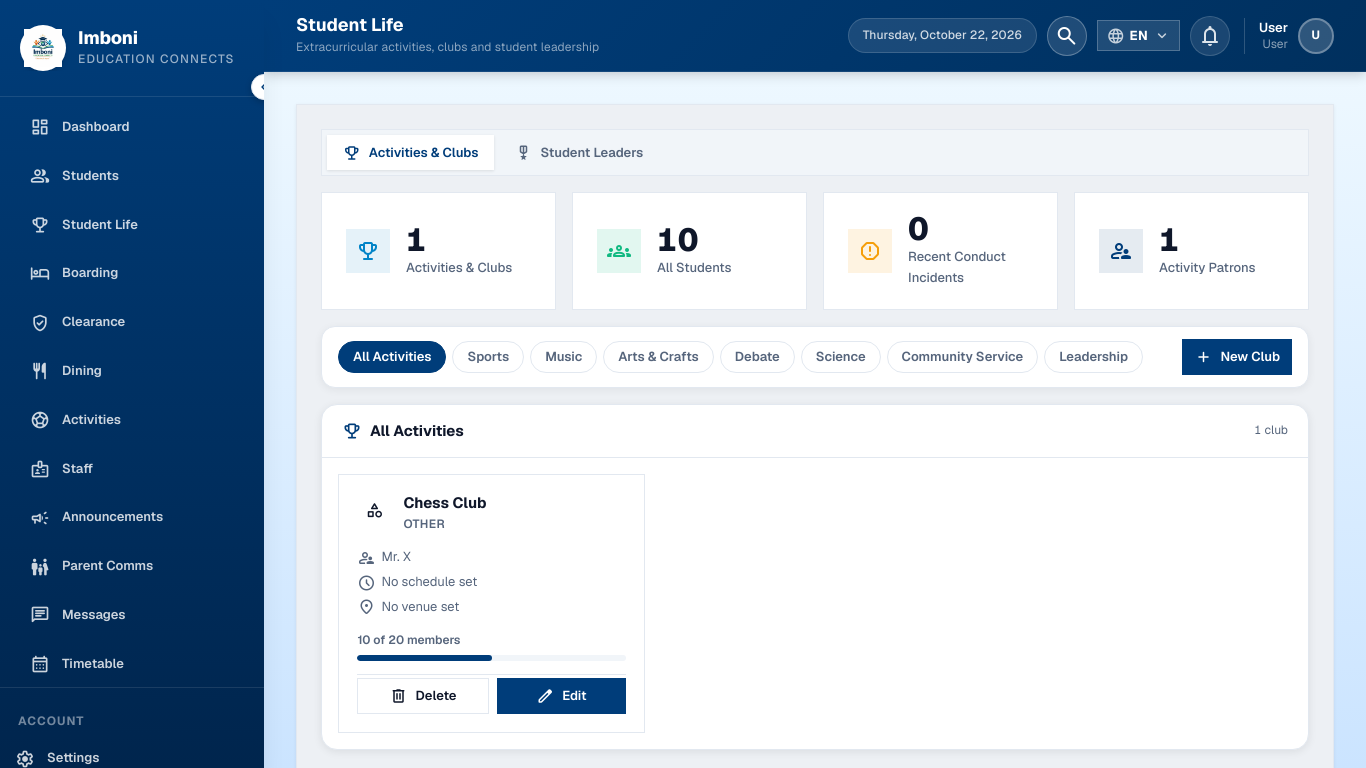
Test case: DisStudentLife › puts every list in a titled, counted section
The width and height of the screenshot is (1366, 768).
Expected: the heading "Chess Club" is shown, [403,493,486,512]
Expected: the heading "All Activities" is shown, [342,421,464,441]
Click the tab "Student Leaders" at (579, 153), box [498,135,659,170]
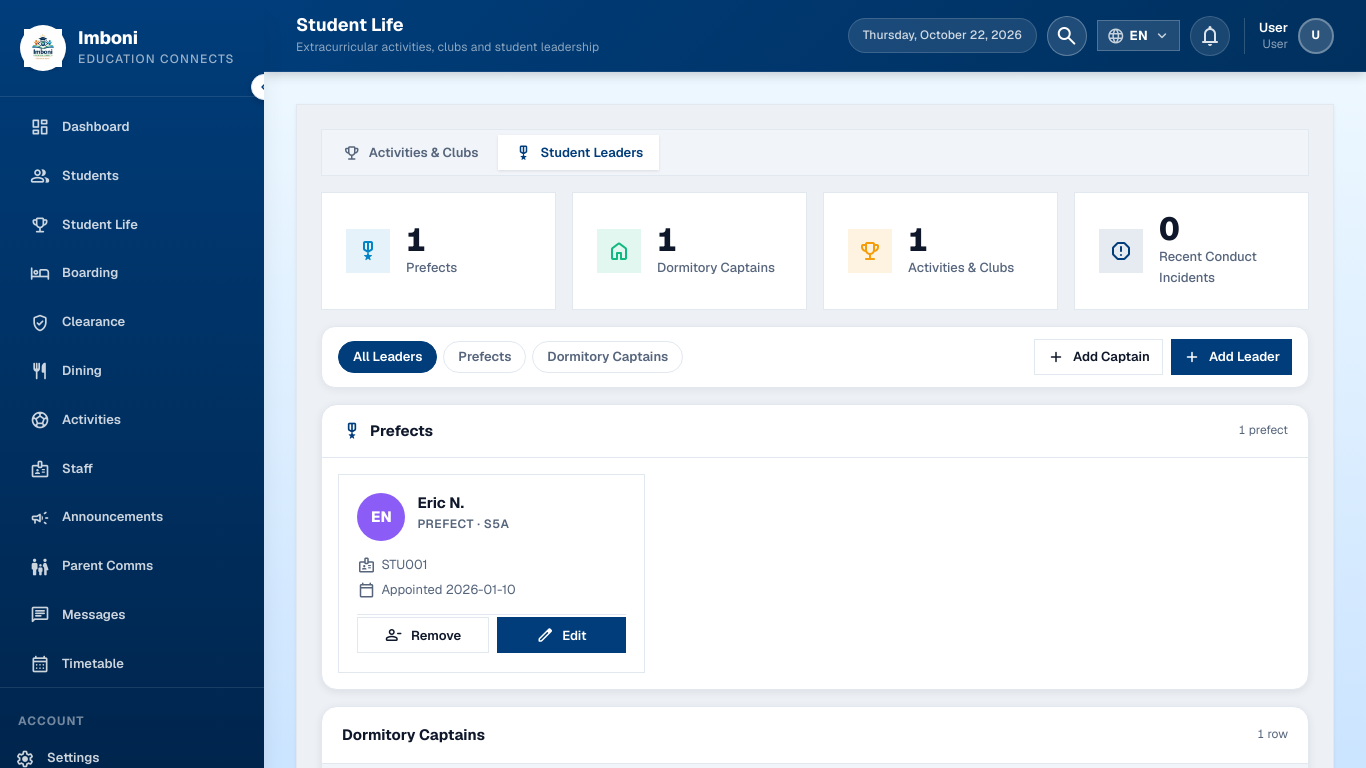
Expected: the heading "Eric N." is shown, [417,493,464,512]
Expected: the heading "Prefects" is shown, [342,421,433,441]
Expected: the text "1 prefect" is shown, [1239,421,1288,440]
